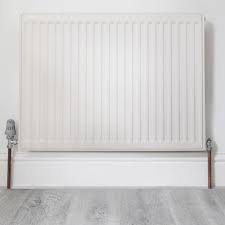Radiator: (5, 10, 214, 159)
